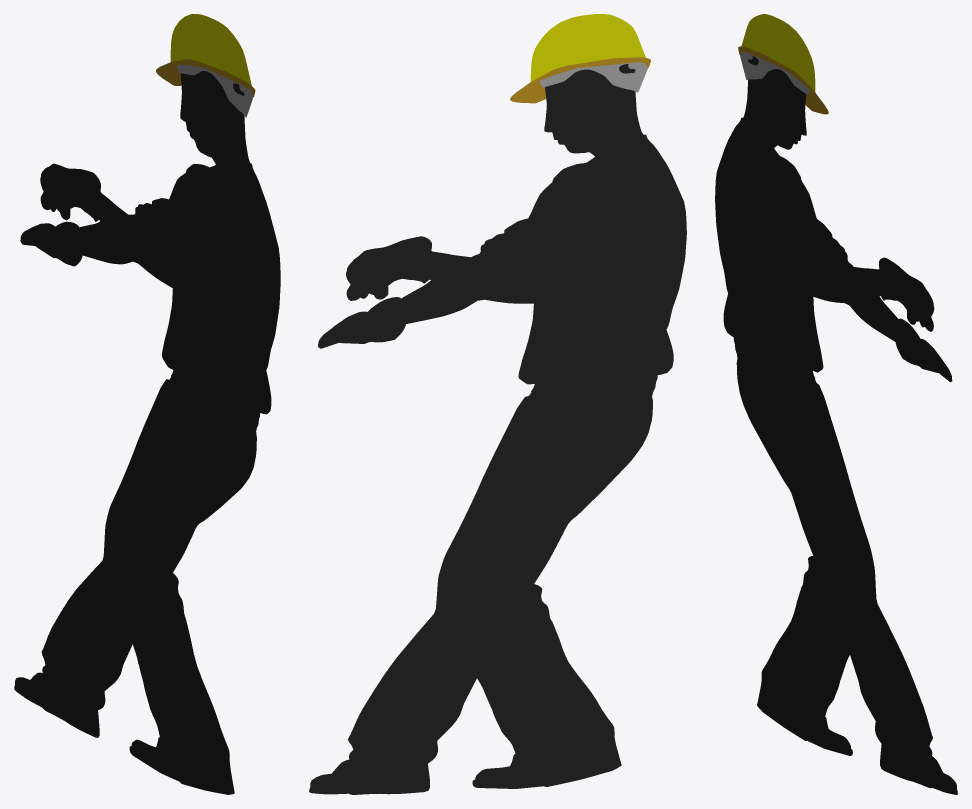
The model's file is Worker3.dae.
3 renders of one model, left to right at view 1: azimuth 90°, elevation 25°; view 2: azimuth 150°, elevation 25°; view 3: azimuth 270°, elevation 25°, orthographic. The views are drawn at different scales.
Parts seen in each view (by area): view 1: 组件_66 (×4); view 2: 组件_66 (×4); view 3: 组件_66 (×4).
Boxes of the visible parts, bbox=[...] form: 组件_66 (×4): bbox=[14, 14, 280, 794]; 组件_66 (×4): bbox=[309, 14, 686, 794]; 组件_66 (×4): bbox=[715, 14, 957, 794].
Bounding box in the file's own units: 21.15 × 19.53 × 63.01.
